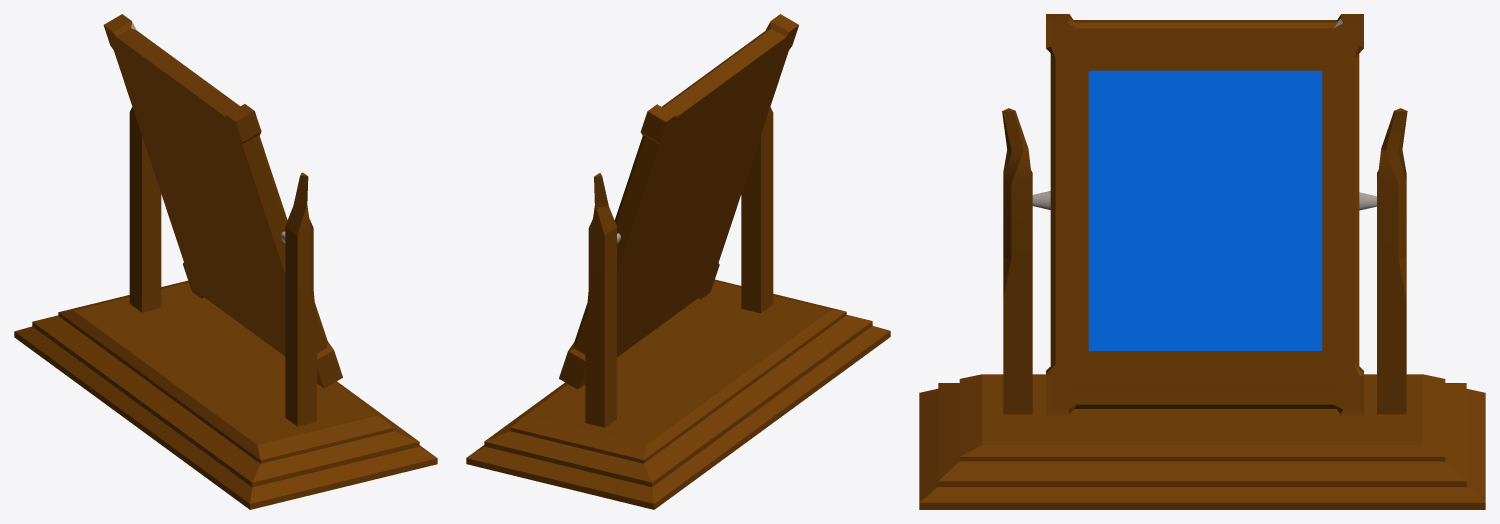
Rendered from Picture_Frame_Desktop_Updated.fbx.
3 views of the same model, side by side, from view 1: azimuth 30°, elevation 25°; view 2: azimuth 150°, elevation 25°; view 3: azimuth 270°, elevation 25° (orthographic). The views are drawn at different scales.
Visible parts, largest first — view 1: Desk_PictureFrame:pCube4; view 2: Desk_PictureFrame:pCube4; view 3: Desk_PictureFrame:pCube4.
Boxes of the visible parts, x1,y1,x2,y2 form: Desk_PictureFrame:pCube4: (14,14,437,509); Desk_PictureFrame:pCube4: (466,14,890,509); Desk_PictureFrame:pCube4: (919,14,1485,509).
Bounding box in the file's own units: 0.6462 × 1.14 × 1.41.
